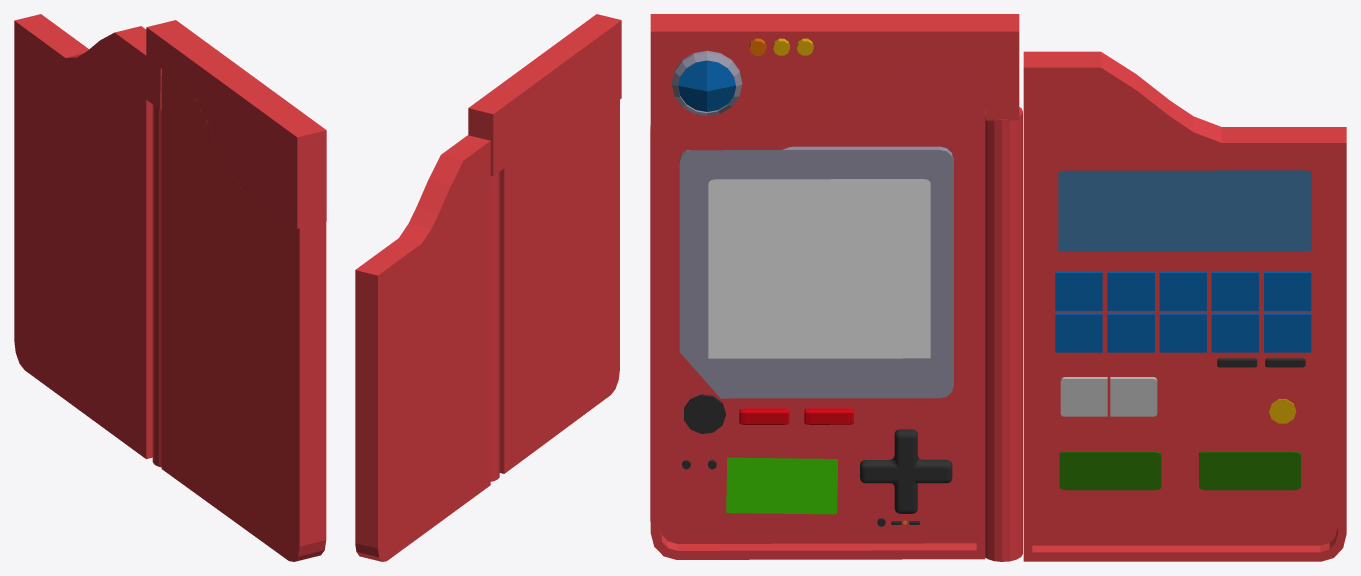
The model's file is pokedex.glb.
3 views of the same model, side by side, from view 1: azimuth 30°, elevation 25°; view 2: azimuth 150°, elevation 25°; view 3: azimuth 270°, elevation 25° (orthographic). The views are drawn at different scales.
Visible parts, largest first — view 1: Cube.010, Cube.009, Cube.011, Cylinder.006; view 2: Cube.009, Cube.010, Cube.011, Cylinder.006; view 3: Cube.009, Cube.010, Pantalla1, Cube.011, Cube.008, Pantalla2, buttonBlue, Cylinder.006, greenLed, Plane.002, buttonWhite, arrows (+3 smaller).
Boxes of the visible parts, x1,y1,x2,y2 form: Cube.010: (161,69,326,561); Cube.009: (14,14,152,459); Cube.011: (146,20,326,228); Cylinder.006: (152,104,161,467); Cube.009: (355,135,490,561); Cube.010: (499,100,619,473); Cube.011: (468,14,621,176); Cylinder.006: (490,172,499,481); Cube.009: (1023,51,1346,561); Cube.010: (650,68,985,559); Pantalla1: (708,179,930,358); Cube.011: (650,14,1019,143); Cube.008: (679,146,953,398); Pantalla2: (1058,170,1311,251); buttonBlue: (1055,271,1311,352); Cylinder.006: (985,107,1022,561); greenLed: (1059,451,1300,490); Plane.002: (726,457,837,514); buttonWhite: (1060,377,1157,416); arrows: (860,429,952,513).
Bounding box in the file's own units: 7.14 × 66.55 × 79.1.
